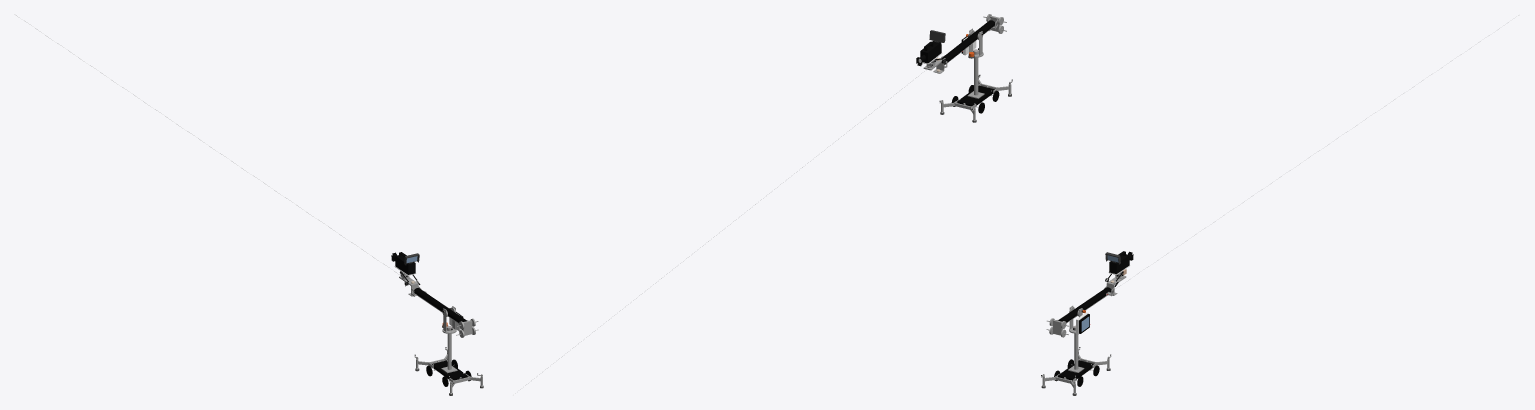
File: Jibarm.glb
The picture shows the model from 3 angles, left to right: view 1: azimuth 30°, elevation 25°; view 2: azimuth 150°, elevation 25°; view 3: azimuth 330°, elevation 25°; orthographic projection. The views are drawn at different scales.
Parts seen in each view (by area): view 1: no part large enough to name; view 2: Arm_Top.001; view 3: no part large enough to name.
Part boxes in pixels (x1,y1,x2,y2): Arm_Top.001: [941, 20, 994, 64].
Size of the model in its own units: 0.6667 by 1.8 by 15.49.
